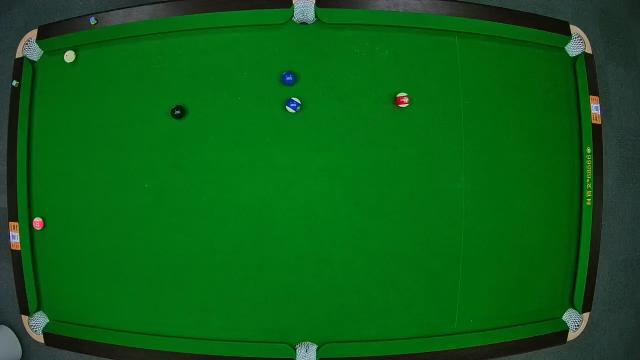bag1: (22, 38, 44, 60)
bag2: (291, 0, 317, 26)
bag3: (566, 29, 588, 57)
bag4: (29, 310, 49, 334)
bag5: (294, 340, 318, 360)
bag6: (563, 308, 585, 332)
ball0: (62, 48, 78, 64)
ball10: (284, 97, 300, 114)
ball11: (394, 93, 410, 107)
ball12: (31, 216, 45, 232)
ball2: (282, 71, 298, 85)
ball8: (172, 106, 184, 120)
